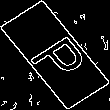P_NE: (20, 25, 90, 85)
